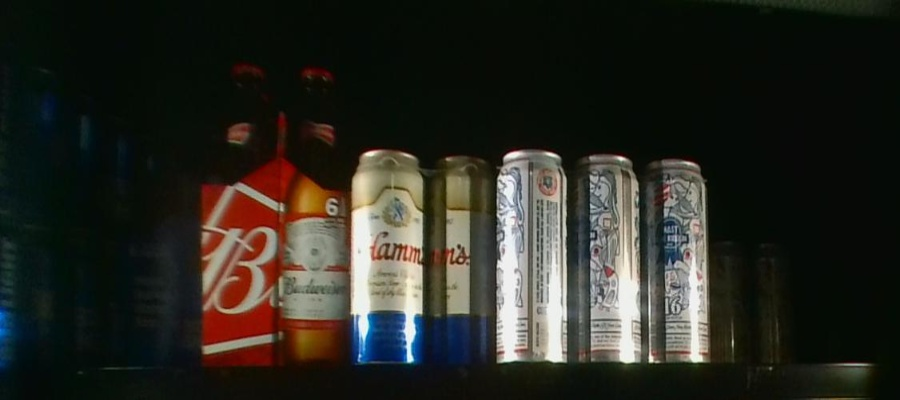bottle: (202, 54, 352, 358), (497, 146, 708, 358), (355, 146, 494, 362), (107, 116, 202, 361), (714, 240, 788, 361)
